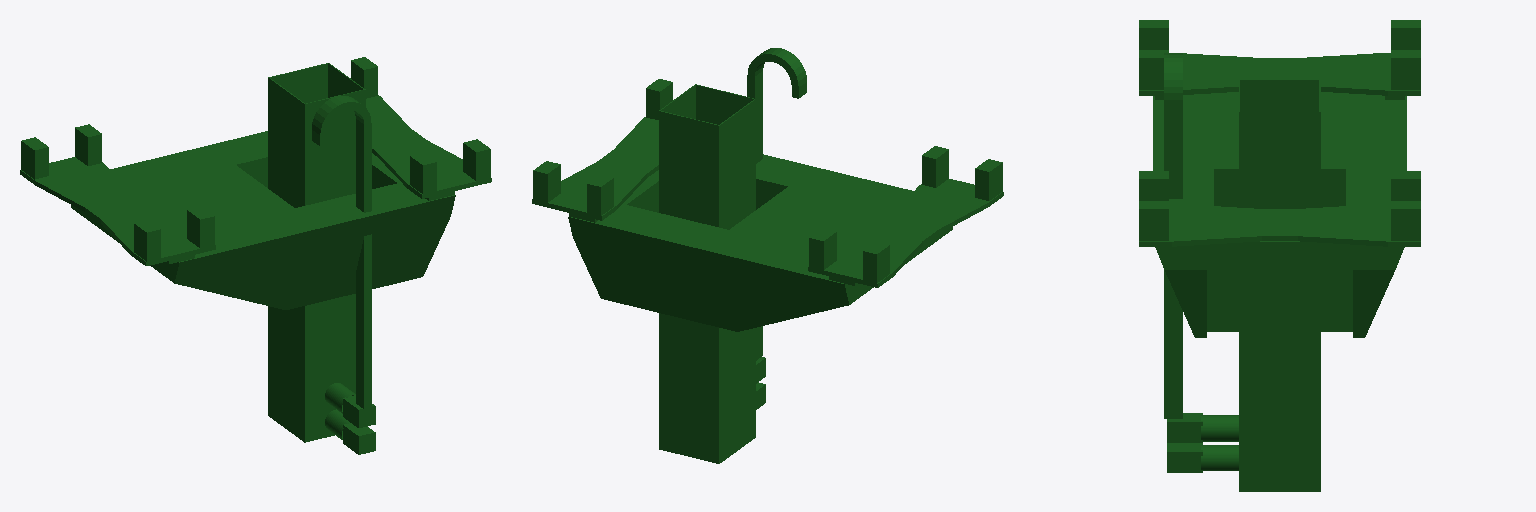
URDF robot description (eth_rfl):
<?xml version="1.0" ?>
<!-- =================================================================================== -->
<!-- |    This document was autogenerated by xacro from eth_rfl.xacro                  | -->
<!-- |    EDITING THIS FILE BY HAND IS NOT RECOMMENDED                                 | -->
<!-- =================================================================================== -->
<robot name="eth_rfl" xmlns:xacro="http://ros.org/wiki/xacro">
  <!-- Conversion were obtained from http://www.e-paint.co.uk/Lab_values.asp
       unless otherwise stated. -->
  <!-- link list -->
  <link name="robot_base_link">
    <visual>
      <origin rpy="0 0 0" xyz="0 0 0"/>
      <geometry>
        <mesh filename="package://abb_irb4400_support/meshes/irb4400l_30_243/visual/base_link.stl"/>
      </geometry>
      <material name="">
        <color rgba="0.7372549 0.3490196 0.1607843 1"/>
      </material>
    </visual>
    <collision>
      <geometry>
        <mesh filename="package://abb_irb4400_support/meshes/irb4400l_30_243/collision/base_link.stl"/>
      </geometry>
      <material name="">
        <color rgba="1 1 0 1"/>
      </material>
    </collision>
  </link>
  <link name="robot_link_1">
    <visual>
      <origin rpy="0 0 0" xyz="0 0 0"/>
      <geometry>
        <mesh filename="package://abb_irb4400_support/meshes/irb4400l_30_243/visual/link_1.stl"/>
      </geometry>
      <material name="">
        <color rgba="0.7372549 0.3490196 0.1607843 1"/>
      </material>
    </visual>
    <collision>
      <origin rpy="0 0 0" xyz="0 0 0"/>
      <geometry>
        <mesh filename="package://abb_irb4400_support/meshes/irb4400l_30_243/collision/link_1.stl"/>
      </geometry>
      <material name="">
        <color rgba="1 1 0 1"/>
      </material>
    </collision>
  </link>
  <link name="robot_link_2">
    <visual>
      <origin rpy="0 0 0" xyz="0 0 0"/>
      <geometry>
        <mesh filename="package://abb_irb4400_support/meshes/irb4400l_30_243/visual/link_2.stl"/>
      </geometry>
      <material name="">
        <color rgba="0.7372549 0.3490196 0.1607843 1"/>
      </material>
    </visual>
    <collision>
      <origin rpy="0 0 0" xyz="0 0 0"/>
      <geometry>
        <mesh filename="package://abb_irb4400_support/meshes/irb4400l_30_243/collision/link_2.stl"/>
      </geometry>
      <material name="">
        <color rgba="1 1 0 1"/>
      </material>
    </collision>
  </link>
  <link name="robot_link_3">
    <visual>
      <origin rpy="0 0 0" xyz="0 0 0"/>
      <geometry>
        <mesh filename="package://abb_irb4400_support/meshes/irb4400l_30_243/visual/link_3.stl"/>
      </geometry>
      <material name="">
        <color rgba="0.7372549 0.3490196 0.1607843 1"/>
      </material>
    </visual>
    <collision>
      <origin rpy="0 0 0" xyz="0 0 0"/>
      <geometry>
        <mesh filename="package://abb_irb4400_support/meshes/irb4400l_30_243/collision/link_3.stl"/>
      </geometry>
      <material name="">
        <color rgba="1 1 0 1"/>
      </material>
    </collision>
  </link>
  <link name="robot_link_4">
    <visual>
      <origin rpy="0 0 0" xyz="0 0 0"/>
      <geometry>
        <mesh filename="package://abb_irb4400_support/meshes/irb4400l_30_243/visual/link_4.stl"/>
      </geometry>
      <material name="">
        <color rgba="0.7372549 0.3490196 0.1607843 1"/>
      </material>
    </visual>
    <collision>
      <origin rpy="0 0 0" xyz="0 0 0"/>
      <geometry>
        <mesh filename="package://abb_irb4400_support/meshes/irb4400l_30_243/collision/link_4.stl"/>
      </geometry>
      <material name="">
        <color rgba="1 1 0 1"/>
      </material>
    </collision>
  </link>
  <link name="robot_link_5">
    <visual>
      <origin rpy="0 0 0" xyz="0 0 0"/>
      <geometry>
        <mesh filename="package://abb_irb4400_support/meshes/irb4400l_30_243/visual/link_5.stl"/>
      </geometry>
      <material name="">
        <color rgba="0.7372549 0.3490196 0.1607843 1"/>
      </material>
    </visual>
    <collision>
      <origin rpy="0 0 0" xyz="0 0 0"/>
      <geometry>
        <mesh filename="package://abb_irb4400_support/meshes/irb4400l_30_243/collision/link_5.stl"/>
      </geometry>
      <material name="">
        <color rgba="1 1 0 1"/>
      </material>
    </collision>
  </link>
  <link name="robot_link_6">
    <visual>
      <origin rpy="0 0 0" xyz="0 0 0"/>
      <geometry>
        <mesh filename="package://abb_irb4400_support/meshes/irb4400l_30_243/visual/link_6.stl"/>
      </geometry>
      <material name="">
        <color rgba="0.1882353 0.1960784 0.2039216 1"/>
      </material>
    </visual>
    <collision>
      <origin rpy="0 0 0" xyz="0 0 0"/>
      <geometry>
        <mesh filename="package://abb_irb4400_support/meshes/irb4400l_30_243/collision/link_6.stl"/>
      </geometry>
      <material name="">
        <color rgba="1 1 0 1"/>
      </material>
    </collision>
  </link>
  <link name="robot_tool0"/>
  <!-- end of link list -->
  <!-- joint list -->
  <joint name="robot_joint_1" type="revolute">
    <origin rpy="0 0 0" xyz="0 0 0"/>
    <parent link="robot_base_link"/>
    <child link="robot_link_1"/>
    <axis xyz="0 0 1"/>
    <limit effort="0" lower="-2.87979" upper="2.87979" velocity="2.618"/>
  </joint>
  <joint name="robot_joint_2" type="revolute">
    <origin rpy="0 0 0" xyz="0.2 0 0.68"/>
    <parent link="robot_link_1"/>
    <child link="robot_link_2"/>
    <axis xyz="0 1 0"/>
    <limit effort="0" lower="-1.2217" upper="1.658" velocity="2.0944"/>
  </joint>
  <joint name="robot_joint_3" type="revolute">
    <origin rpy="0 0 0" xyz="0 0 0.89"/>
    <parent link="robot_link_2"/>
    <child link="robot_link_3"/>
    <axis xyz="0 1 0"/>
    <limit effort="0" lower="-1.0472" upper="1.1345" velocity="2.0944"/>
  </joint>
  <joint name="robot_joint_4" type="revolute">
    <origin rpy="0 0 0" xyz="1.38 0 0.15"/>
    <parent link="robot_link_3"/>
    <child link="robot_link_4"/>
    <axis xyz="1 0 0"/>
    <limit effort="0" lower="-3.49" upper="3.49" velocity="3.927"/>
  </joint>
  <joint name="robot_joint_5" type="revolute">
    <origin rpy="0 0 0" xyz="0 0 0"/>
    <parent link="robot_link_4"/>
    <child link="robot_link_5"/>
    <axis xyz="0 1 0"/>
    <limit effort="0" lower="-2.0944" upper="2.0944" velocity="4.3633"/>
  </joint>
  <joint name="robot_joint_6" type="revolute">
    <origin rpy="0 0 0" xyz="0 0 0"/>
    <parent link="robot_link_5"/>
    <child link="robot_link_6"/>
    <axis xyz="1 0 0"/>
    <limit effort="0" lower="-6.9813" upper="6.9813" velocity="5.7596"/>
  </joint>
  <joint name="robot_joint_6-tool0" type="fixed">
    <parent link="robot_link_6"/>
    <child link="robot_tool0"/>
    <origin rpy="0 0 0" xyz="0.14 0 0"/>
  </joint>
  <!-- end of joint list -->
  <!-- ROS base_link to ABB World Coordinates transform -->
  <link name="robot_base"/>
  <joint name="robot_base_link-base" type="fixed">
    <origin rpy="0 0 0" xyz="0 0 0"/>
    <parent link="robot_base_link"/>
    <child link="robot_base"/>
  </joint>
  <!-- link list -->
  <link name="eef_base_link">
    <visual>
      <origin rpy="0 0 0" xyz="8.8e-05 0.000769 -0.002121"/>
      <geometry>
        <mesh filename="package://mit_arch_suction_gripper/meshes/visual/suction-gripper_mit-arch_visual.stl" scale=".001 .001 .001"/>
      </geometry>
      <material name="grey">
        <color rgba="0.5 0.5 0.5 1.0"/>
      </material>
    </visual>
    <collision>
      <origin rpy="0 0 0" xyz="8.8e-05 0.000769 -0.002121"/>
      <geometry>
        <mesh filename="package://mit_arch_suction_gripper/meshes/collision/suction-gripper_mit-arch_collision.stl" scale=".001 .001 .001"/>
      </geometry>
      <material name="red">
        <color rgba="1 0 0 1"/>
      </material>
    </collision>
  </link>
  <link name="eef_tcp_frame"/>
  <!-- end of link list -->
  <!-- joint list -->
  <joint name="eef_base_to_tcp" type="fixed">
    <origin rpy="0.0 1.57079632679 0.0" xyz="0.145336 0.001949 0.096286"/>
    <parent link="eef_base_link"/>
    <child link="eef_tcp_frame"/>
  </joint>
  <!-- end of joint list -->
  <!--	Link list-->
  <link name="gantry_base_link">
    <visual>
      <geometry>
        <mesh filename="package://eth_rfl_track/meshes/visual/eth_gudel_track_x_rail_visual.stl" scale=".001 .001 .001"/>
      </geometry>
      <material name="">
        <color rgba="0.772549019608 0.780392156863 0.76862745098 1.0"/>
      </material>
    </visual>
    <collision>
      <geometry>
        <mesh filename="package://eth_rfl_track/meshes/collision/eth_gudel_track_x_rail_collision.stl" scale=".001 .001 .001"/>
      </geometry>
      <material name="">
        <color rgba="0.772549019608 0.780392156863 0.76862745098 1.0"/>
      </material>
    </collision>
  </link>
  <link name="gantry_y_bridge">
    <visual>
      <geometry>
        <mesh filename="package://eth_rfl_track/meshes/visual/eth_gudel_track_y_bridge_visual.stl" scale=".001 .001 .001"/>
      </geometry>
      <material name="">
        <color rgba="0.15 0.415 0.165 1.0"/>
      </material>
    </visual>
    <collision>
      <geometry>
        <mesh filename="package://eth_rfl_track/meshes/collision/eth_gudel_track_y_bridge_collision.stl" scale=".001 .001 .001"/>
      </geometry>
      <material name="">
        <color rgba="0.15 0.415 0.165 1.0"/>
      </material>
    </collision>
  </link>
  <link name="gantry_xy_carriage">
    <visual>
      <geometry>
        <mesh filename="package://eth_rfl_track/meshes/visual/eth_gudel_track_xy_carriage_visual.stl" scale=".001 .001 .001"/>
      </geometry>
      <material name="">
        <color rgba="0.15 0.415 0.165 1.0"/>
      </material>
    </visual>
    <collision>
      <geometry>
        <mesh filename="package://eth_rfl_track/meshes/collision/eth_gudel_track_xy_carriage_collision.stl" scale=".001 .001 .001"/>
      </geometry>
      <material name="">
        <color rgba="0.15 0.415 0.165 1.0"/>
      </material>
    </collision>
  </link>
  <link name="gantry_z_carriage">
    <visual>
      <geometry>
        <mesh filename="package://eth_rfl_track/meshes/visual/eth_gudel_track_z_carriage_visual.stl" scale=".001 .001 .001"/>
      </geometry>
      <material name="">
        <color rgba="0.772549019608 0.780392156863 0.76862745098 1.0"/>
      </material>
    </visual>
    <collision>
      <geometry>
        <mesh filename="package://eth_rfl_track/meshes/collision/eth_gudel_track_z_carriage_collision.stl" scale=".001 .001 .001"/>
      </geometry>
      <material name="">
        <color rgba="0.772549019608 0.780392156863 0.76862745098 1.0"/>
      </material>
    </collision>
  </link>
  <link name="gantry_robot_mount"/>
  <!--	End of link list-->
  <!-- Joint list -->
  <joint name="gantry_x_joint" type="prismatic">
    <parent link="gantry_base_link"/>
    <child link="gantry_y_bridge"/>
    <origin rpy="0 0 0" xyz="0 0 0"/>
    <axis xyz="1 0 0"/>
    <limit effort="1" lower="0" upper="20" velocity="1.5"/>
  </joint>
  <joint name="gantry_y_joint" type="prismatic">
    <parent link="gantry_y_bridge"/>
    <child link="gantry_xy_carriage"/>
    <origin rpy="0 0 0" xyz="0 0 0"/>
    <axis xyz="0 1 0"/>
    <limit effort="1" lower="0" upper="12.673" velocity="1.5"/>
  </joint>
  <joint name="gantry_z_joint" type="prismatic">
    <parent link="gantry_xy_carriage"/>
    <child link="gantry_z_carriage"/>
    <origin rpy="0 0 0" xyz="0 0 0"/>
    <axis xyz="0 0 -1"/>
    <limit effort="1" lower="0" upper="1.227" velocity="1"/>
  </joint>
  <joint name="gantry_z_carriage_mount" type="fixed">
    <parent link="gantry_z_carriage"/>
    <child link="gantry_robot_mount"/>
    <origin rpy="0 3.14159265359 0" xyz="0.545 -0.0075 -2.526"/>
  </joint>
  <!-- End of joint list -->
  <!--  <xacro:simple_linear_track_demo_cell prefix=""/>-->
  <!-- Link list -->
  <link name="base_link"/>
  <!-- End of link list -->
  <!-- Joint list -->
  <!--bind the rail to word_frame, can be disabled if using modile platform-->
  <joint name="gantry_to_base_link" type="fixed">
    <origin rpy="0 0 0" xyz="1.550 0.8675 5.7766"/>
    <parent link="base_link"/>
    <child link="gantry_base_link"/>
  </joint>
  <joint name="robot_to_gantry" type="fixed">
    <origin rpy="0 0 0" xyz="0 0 0"/>
    <parent link="gantry_robot_mount"/>
    <child link="robot_base_link"/>
  </joint>
  <joint name="ee_to_robot" type="fixed">
    <parent link="robot_tool0"/>
    <child link="eef_base_link"/>
    <origin rpy="0 0 0" xyz="0 0 0"/>
  </joint>
  <!-- End of joint list -->
</robot>

--- Render facts (derived) ---
The picture shows the robot from 3 angles, left to right: view 1: azimuth 30°, elevation 25°; view 2: azimuth 150°, elevation 25°; view 3: azimuth 270°, elevation 25°; orthographic projection.
Robot: eth_rfl — 17 links, 16 joints (6 revolute, 3 prismatic, 7 fixed); root link base_link; default pose: all joints at 0.
Links seen in each view (by area): view 1: gantry_xy_carriage; view 2: gantry_xy_carriage; view 3: gantry_xy_carriage.
Boxes of the visible links, x1,y1,x2,y2 form: gantry_xy_carriage: [20, 57, 491, 454]; gantry_xy_carriage: [532, 48, 1003, 463]; gantry_xy_carriage: [1139, 20, 1420, 491].
Size in the robot's own frame: 3.13 by 1.97 by 3.14 metres.
1 mesh visuals loaded from 12 distinct referenced files (1 binary STL); not drawn: 11 (reference not matched to a file when rendering).